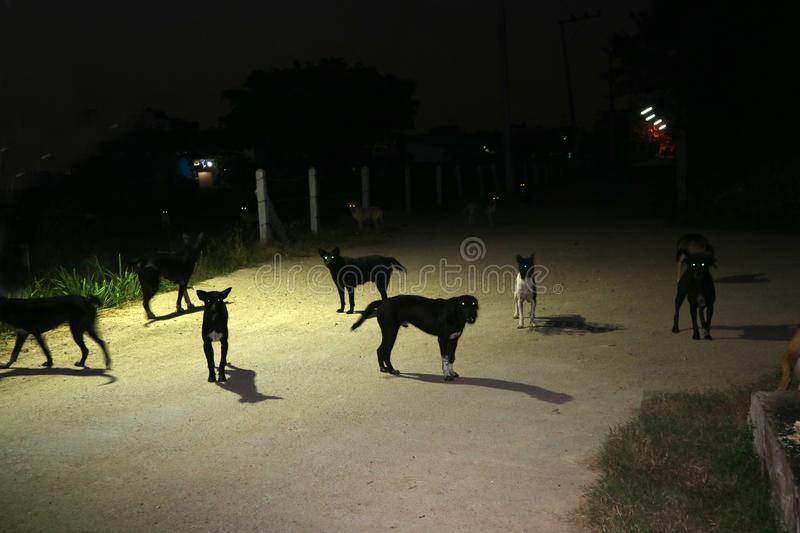normal_dogs: (362, 294, 480, 388), (0, 283, 109, 383), (123, 223, 214, 324), (192, 284, 246, 390), (666, 248, 728, 336), (318, 245, 404, 300), (501, 252, 561, 329), (670, 227, 720, 279), (484, 174, 539, 216), (342, 193, 393, 235), (776, 318, 800, 390), (154, 203, 198, 235), (464, 192, 504, 226), (236, 202, 268, 243)
